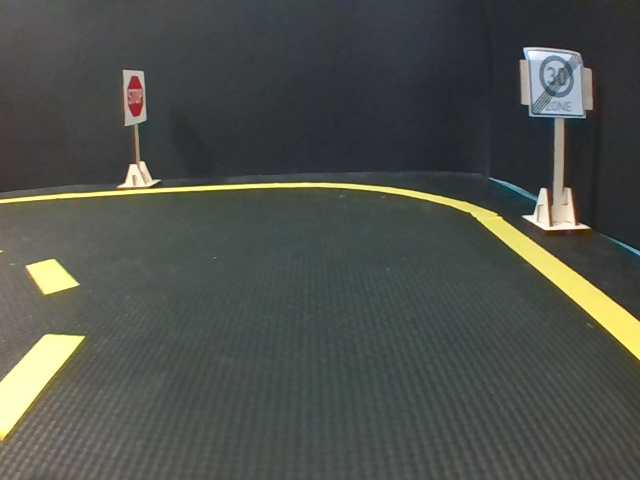no30: (528, 50, 583, 117)
stop: (123, 69, 146, 124)
